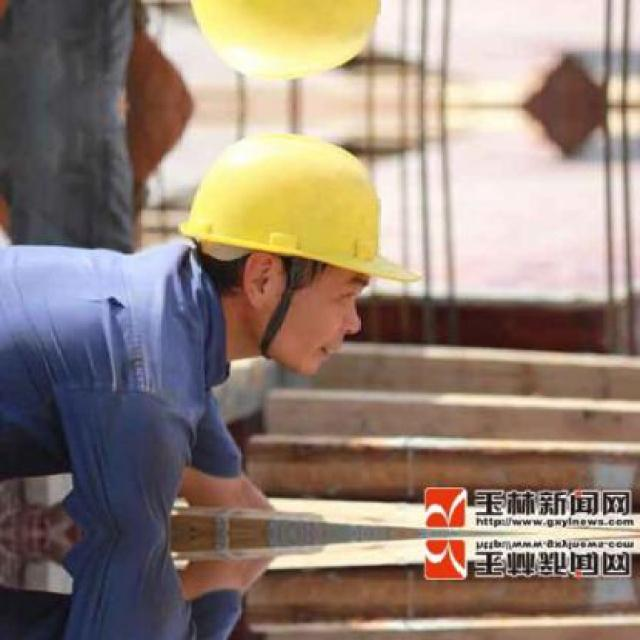helmet: (159, 105, 423, 362), (158, 0, 424, 108)
